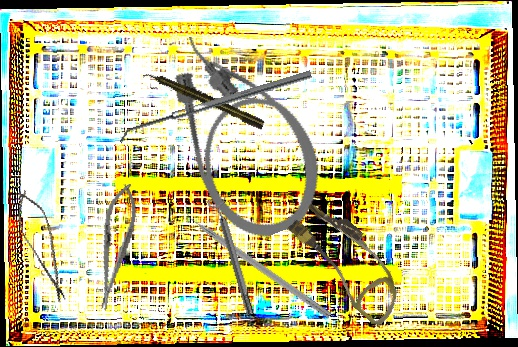Cannula: (152, 9, 338, 252), (277, 193, 419, 329)
Chopper: (177, 200, 338, 319)
Fixation Ring: (206, 194, 260, 318)
Handpiece: (142, 67, 266, 131)
Micro Scissor: (7, 184, 78, 308)
Needle Holder: (87, 180, 143, 313)
Spatula Surgical: (116, 70, 315, 144)
